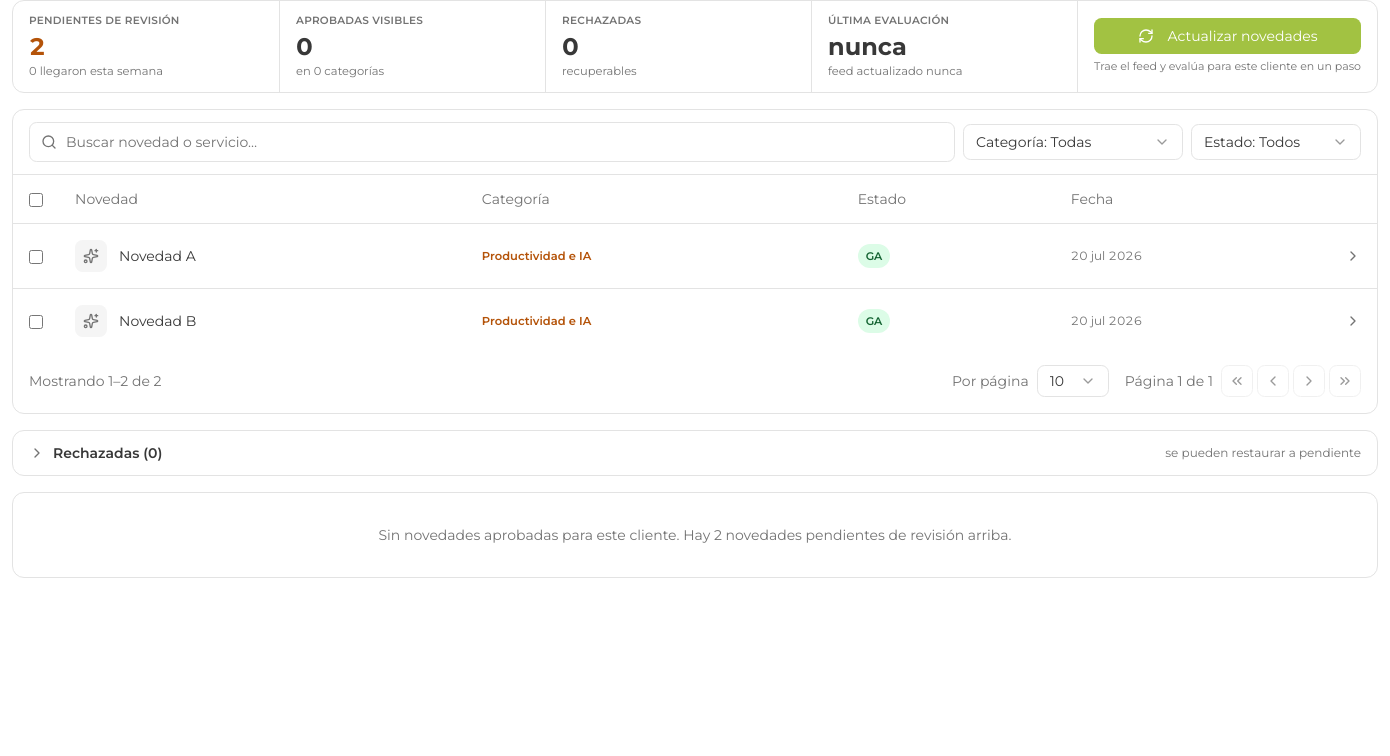
Test: recargar tras aprobar UNA fila conserva el por_que editado (y aún sin guardar) de las demás
Expandir B y editar su por_que, SIN guardar.
Click the text "Novedad B".
click(158, 320)  # box [119,310,196,330]
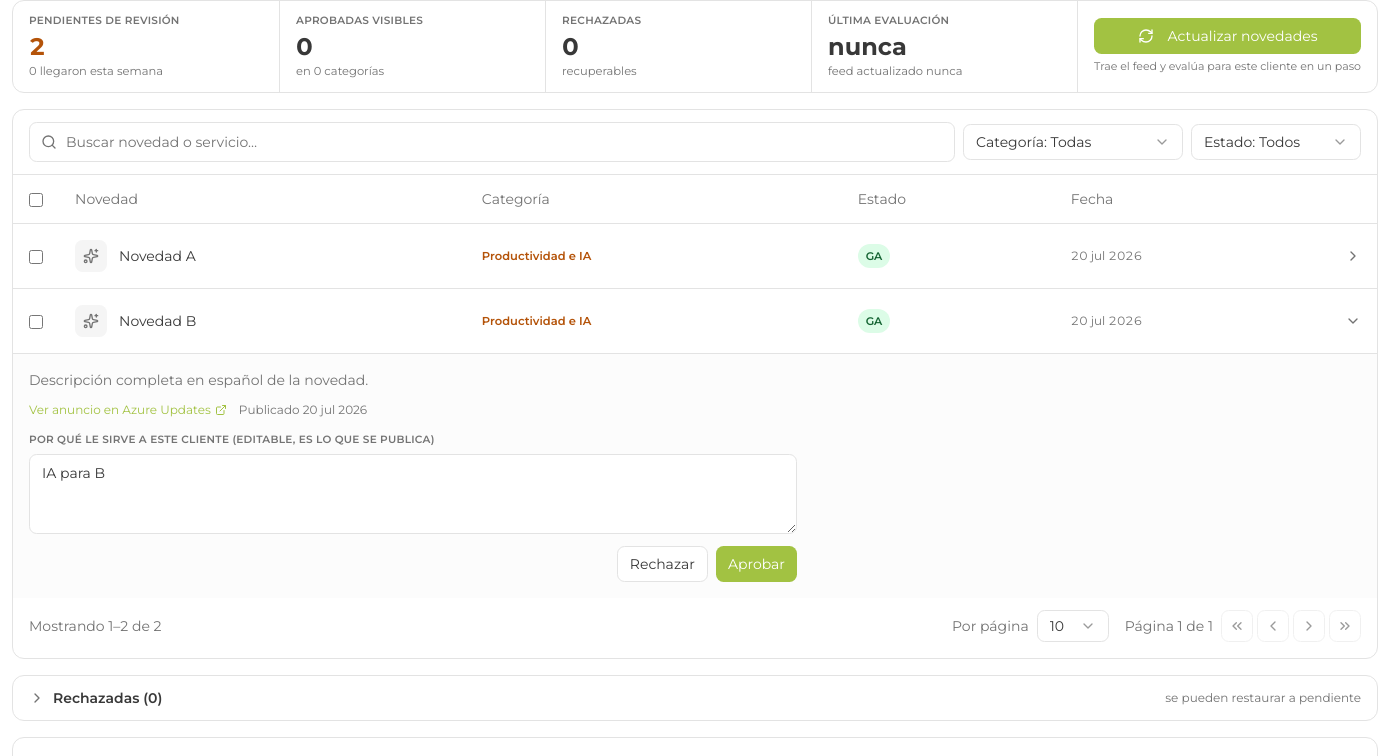
Replace the text in the text box showing "IA para B" with "Editado por el consultor para B" at (413, 494), box [29,454,797,534]
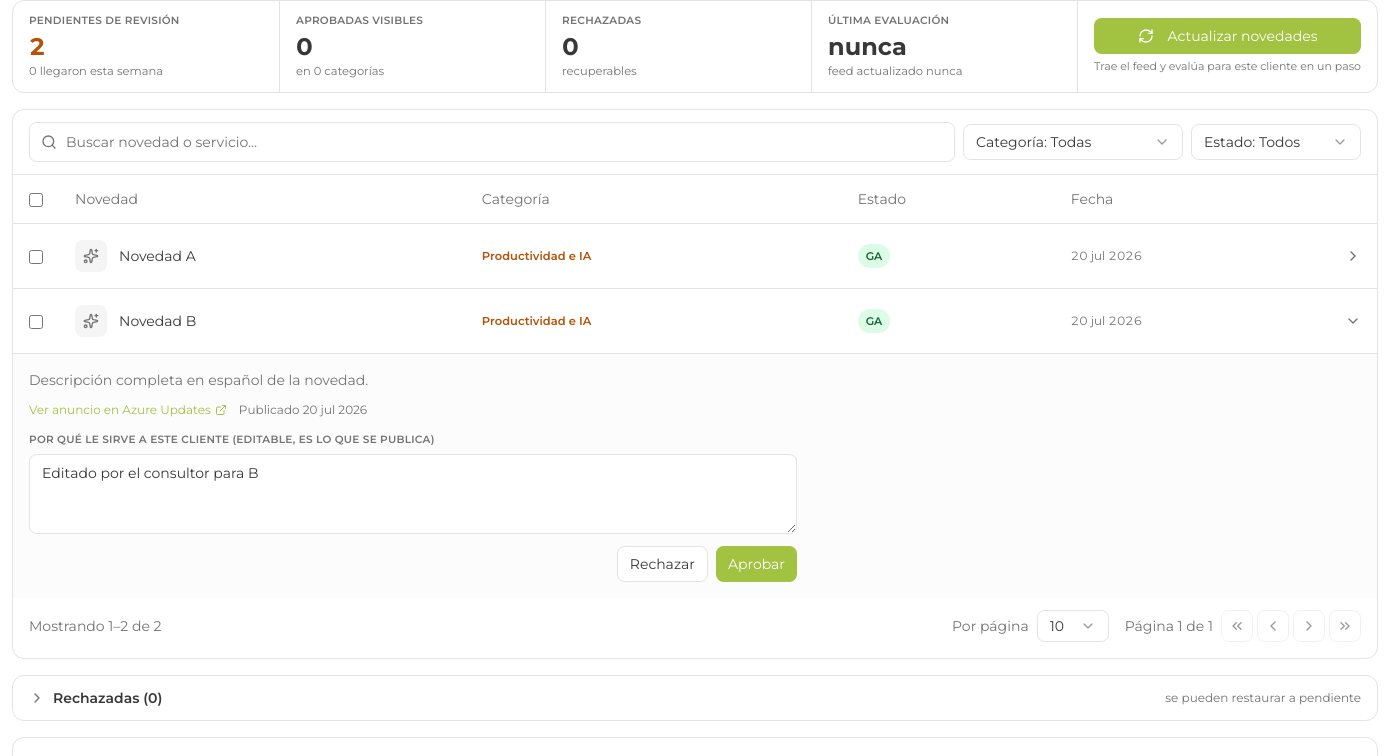
Expandir A (colapsa B, la tabla solo expande una fila a la vez) y aprobarla.
Click the text "Novedad A".
click(157, 256)  # box [119,246,196,266]
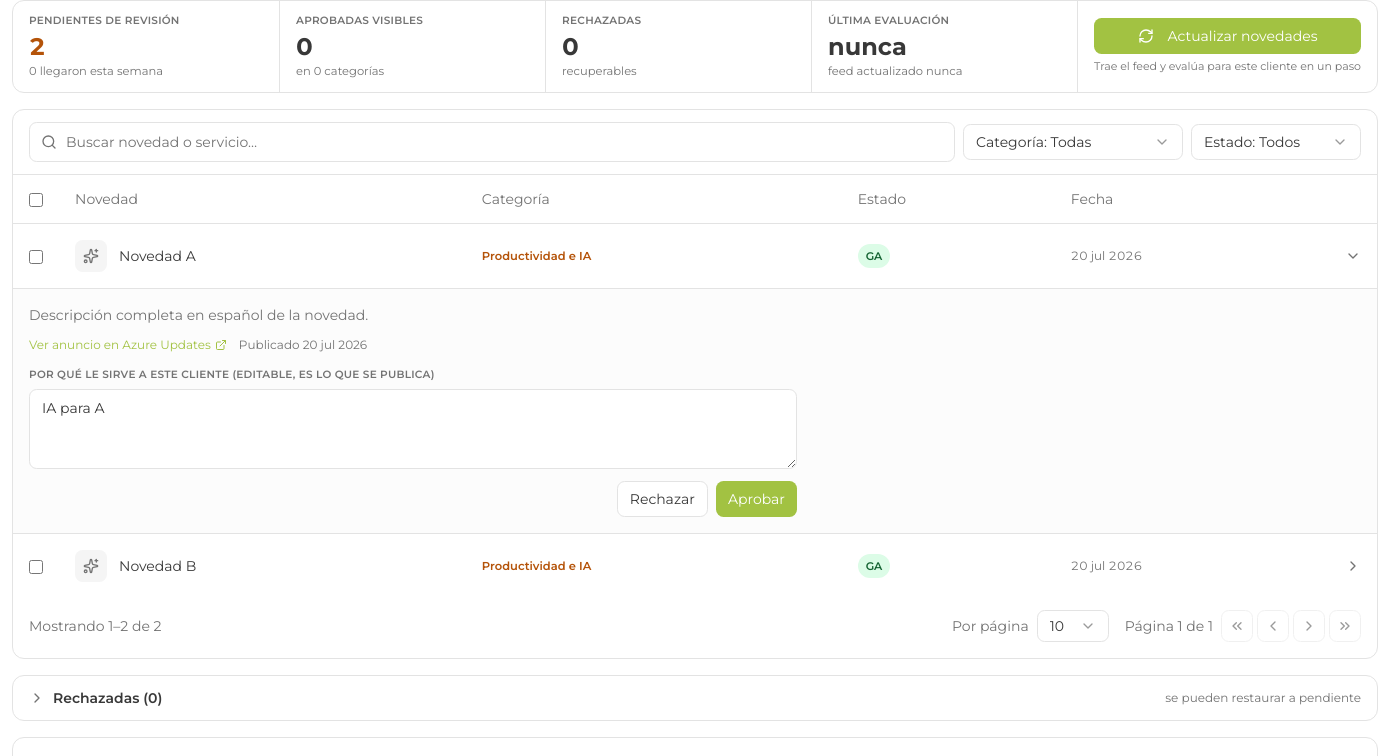
Click the button "Aprobar".
click(756, 498)  # box [716,480,797,516]
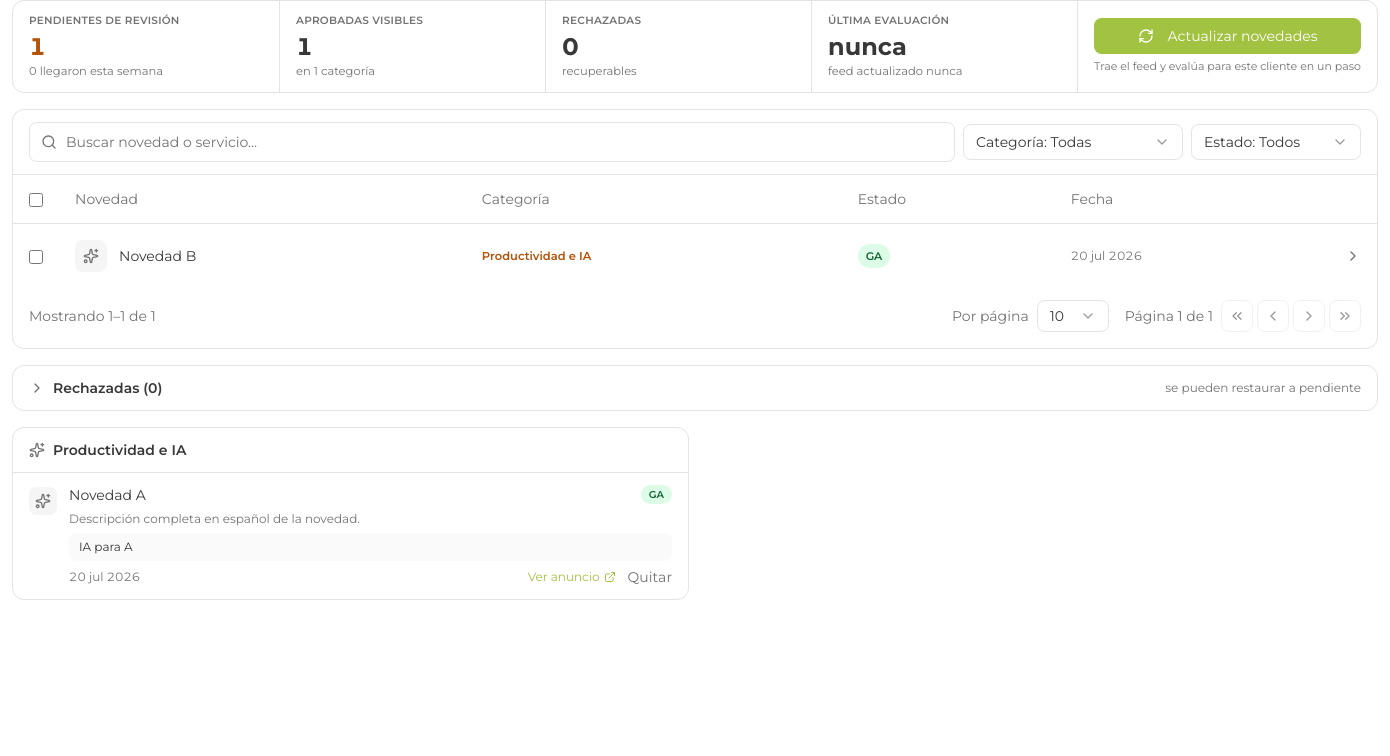
Tras la recarga, B sigue pendiente: se expande de nuevo y debe conservar el texto editado.
Click the text "Novedad B".
click(158, 256)  # box [119,246,196,266]
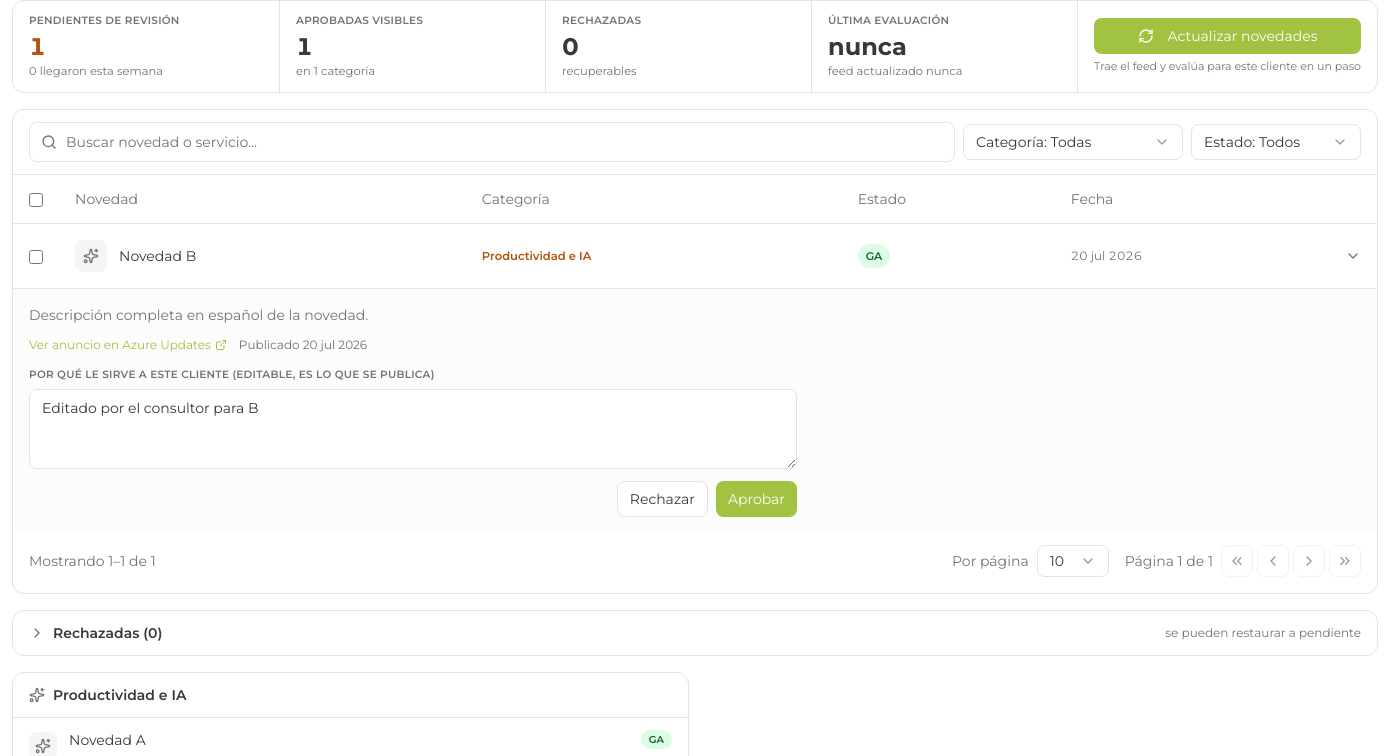
Expected: the field showing "IA para B" is not shown
Expected: the text box showing "Editado por el consultor para B" is shown, [29,388,797,468]
